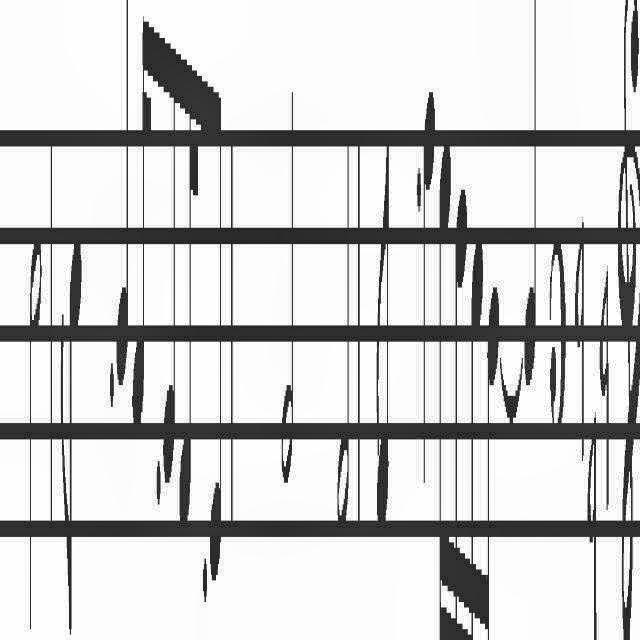Bass-clef: (615, 0, 640, 640), (639, 0, 640, 640)
Bemol: (573, 192, 587, 463), (600, 248, 612, 540), (588, 412, 600, 640)
Eighth-note: (55, 200, 87, 640), (208, 63, 224, 605), (162, 15, 178, 495), (374, 119, 391, 557)
Half-note: (24, 228, 48, 640), (278, 60, 296, 512), (336, 118, 352, 570)
Quarter-note: (115, 0, 131, 396), (422, 72, 436, 504), (524, 0, 538, 408)
Sixteenth-note: (178, 30, 198, 570), (131, 30, 153, 446), (454, 190, 470, 640), (439, 140, 453, 640), (486, 282, 502, 640), (471, 239, 485, 640)
